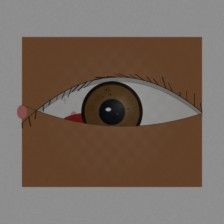hemorrhage_spot: (50, 85, 140, 157)
